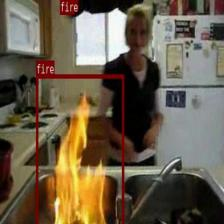fire: (36, 74, 124, 224), (60, 0, 74, 14)
